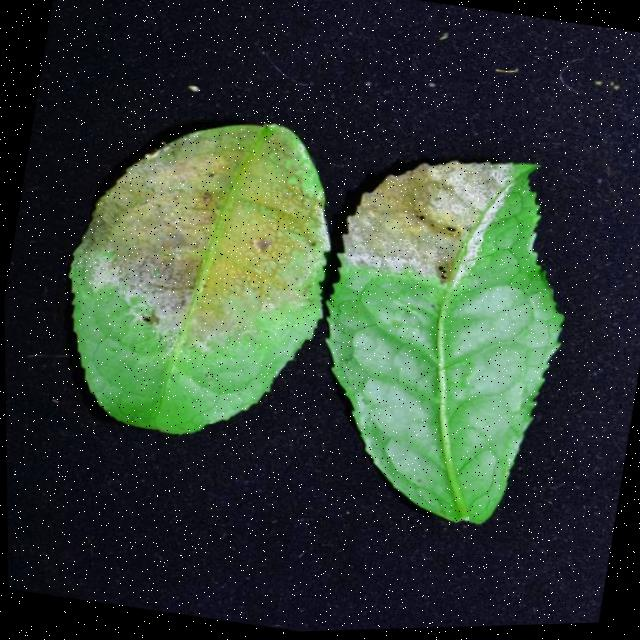Tea exobasidium blight: (103, 114, 330, 361), (330, 136, 526, 325)
